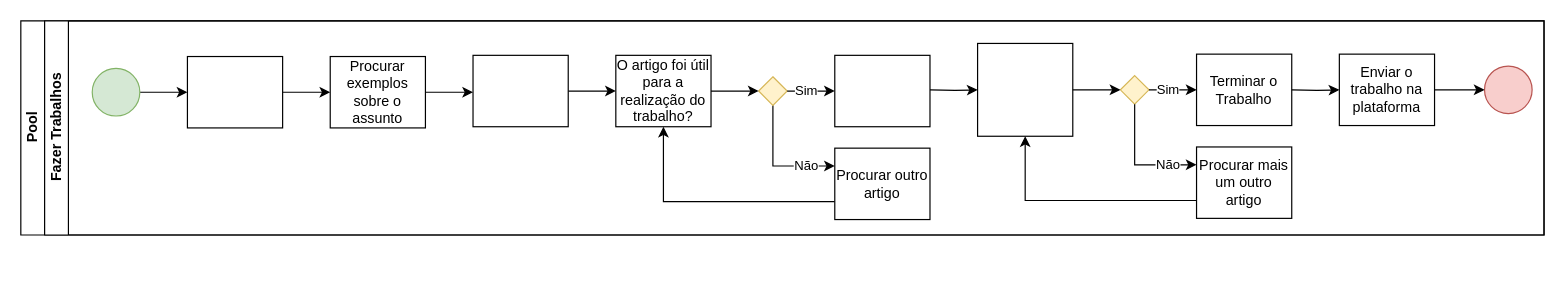
Image size: 1565x289. Some labels were removed from this diagram. Each missing label, with the centre of its shape:
"Escrever o trabalho" goes at pixel 882 90.
"Ler sobre o assunto" goes at pixel 234 91.
"Procurar artigos sobre o assunto" goes at pixel 520 90.
"É possível terminar esse trabalho com a pesquisa atual?" goes at pixel 1024 89.
